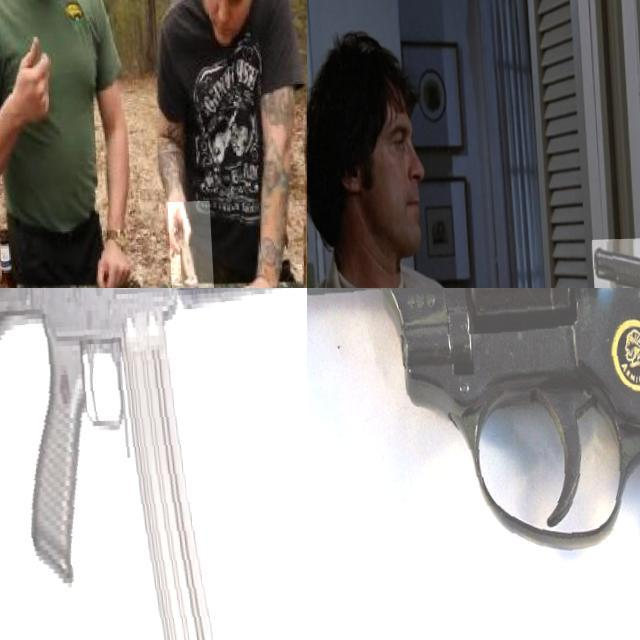-: (162, 203, 211, 288)
gun-knife-thesis - v11 Yolov5 augmented: (307, 288, 640, 640), (0, 288, 307, 640)
